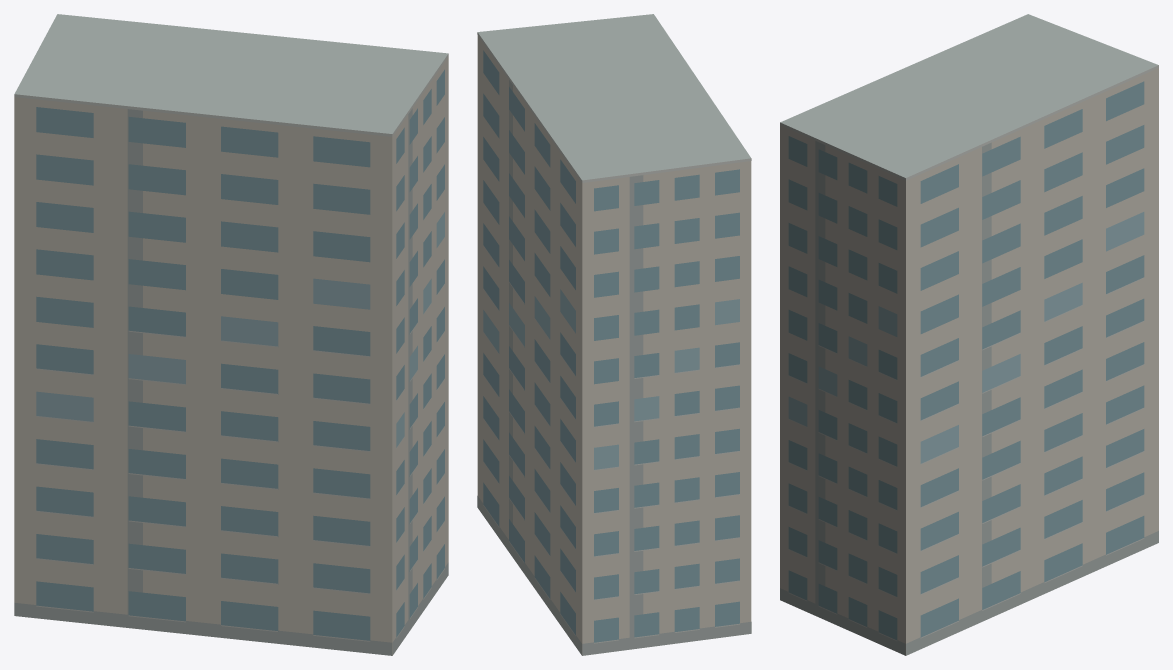
The model's file is residential-54d7f20d-b9cd-4cf9-a1ff-2f40e67d317d.glb.
3 renders of one model, left to right at view 1: azimuth 30°, elevation 25°; view 2: azimuth 150°, elevation 25°; view 3: azimuth 270°, elevation 25°, orthographic. The views are drawn at different scales.
Visible parts, largest first — view 1: residential-54d7f20d-b9cd-4cf9-a1ff-2f40e67d317d.tmp; view 2: residential-54d7f20d-b9cd-4cf9-a1ff-2f40e67d317d.tmp; view 3: residential-54d7f20d-b9cd-4cf9-a1ff-2f40e67d317d.tmp.
Boxes of the visible parts, box(x1,y1,x2,y2) form: residential-54d7f20d-b9cd-4cf9-a1ff-2f40e67d317d.tmp: box(14, 14, 448, 655); residential-54d7f20d-b9cd-4cf9-a1ff-2f40e67d317d.tmp: box(477, 14, 751, 655); residential-54d7f20d-b9cd-4cf9-a1ff-2f40e67d317d.tmp: box(780, 14, 1158, 655).
Bounding box in the file's own units: 32.43 × 44 × 31.62.
